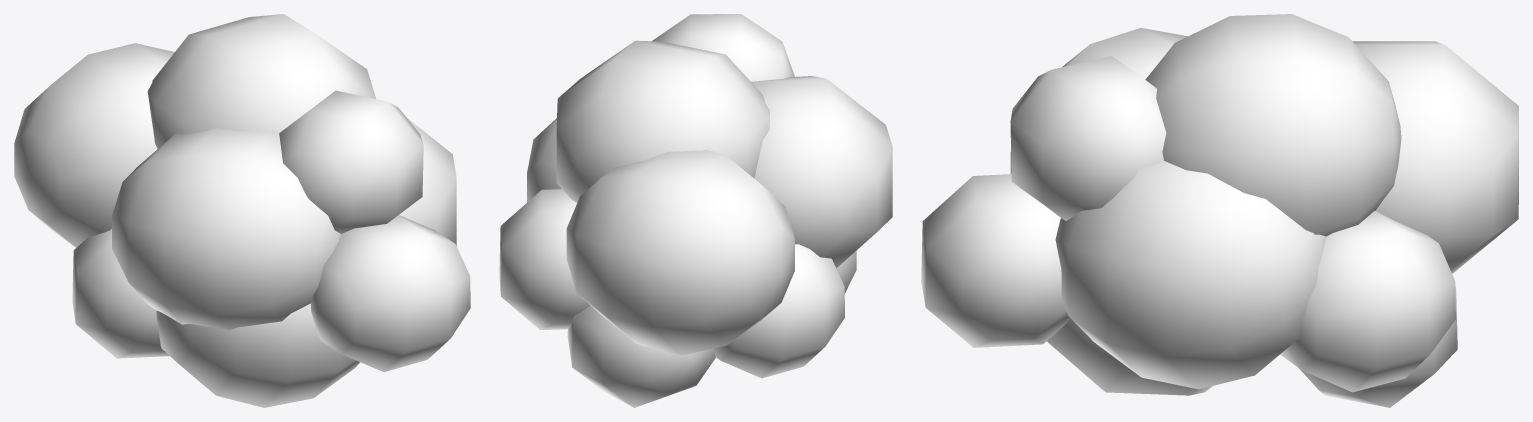
File: Cloud.fbx
3 renders of one model, left to right at view 1: azimuth 30°, elevation 25°; view 2: azimuth 150°, elevation 25°; view 3: azimuth 270°, elevation 25°, orthographic. The views are drawn at different scales.
Visible parts, largest first — view 1: Cloud; view 2: Cloud; view 3: Cloud.
Part boxes in pixels (box(x1,y1,x2,y2)): Cloud: box(14, 14, 470, 407); Cloud: box(499, 14, 892, 407); Cloud: box(921, 14, 1518, 407).
Size of the model in its own units: 0.6536 by 0.5893 by 0.8751.
